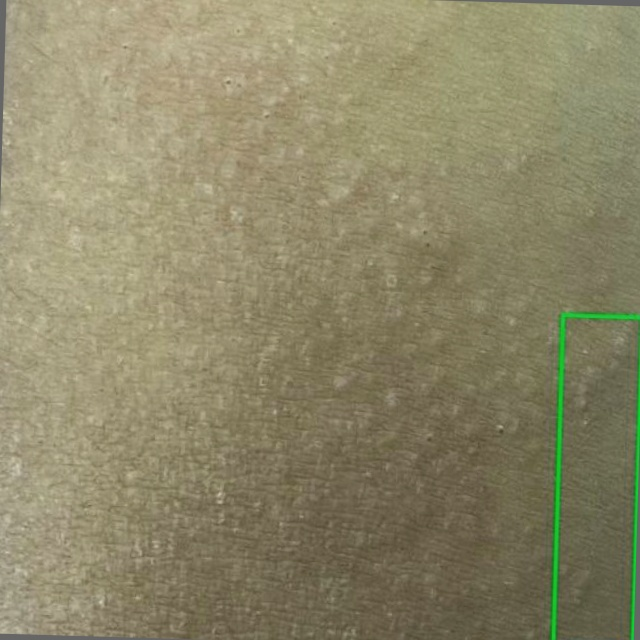Contact Dermatitis: (553, 315, 639, 639)
